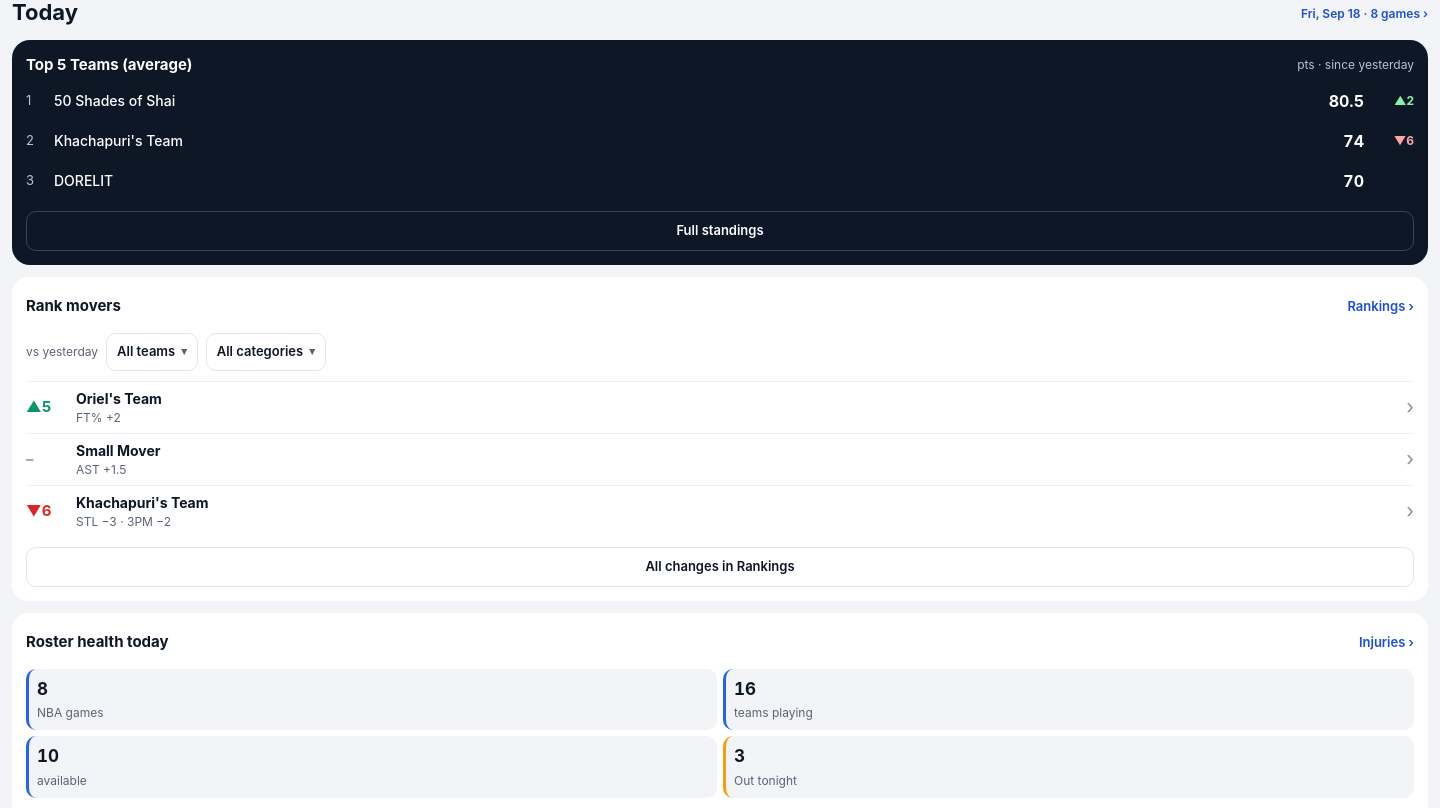
Test: Today page on a phone (redesign on) › rank movers grouped per team, filterable by team in a sheet
This screenshot has width=1440, height=808.
expect the text "STL −3 · 3PM −2" is shown: met, box [76,514,171,528]
expect the text "▲5" is shown: met, box [26,397,51,416]
Click the button with aria-label "Filter teams: All teams" at (152, 352), box [106,332,198,370]
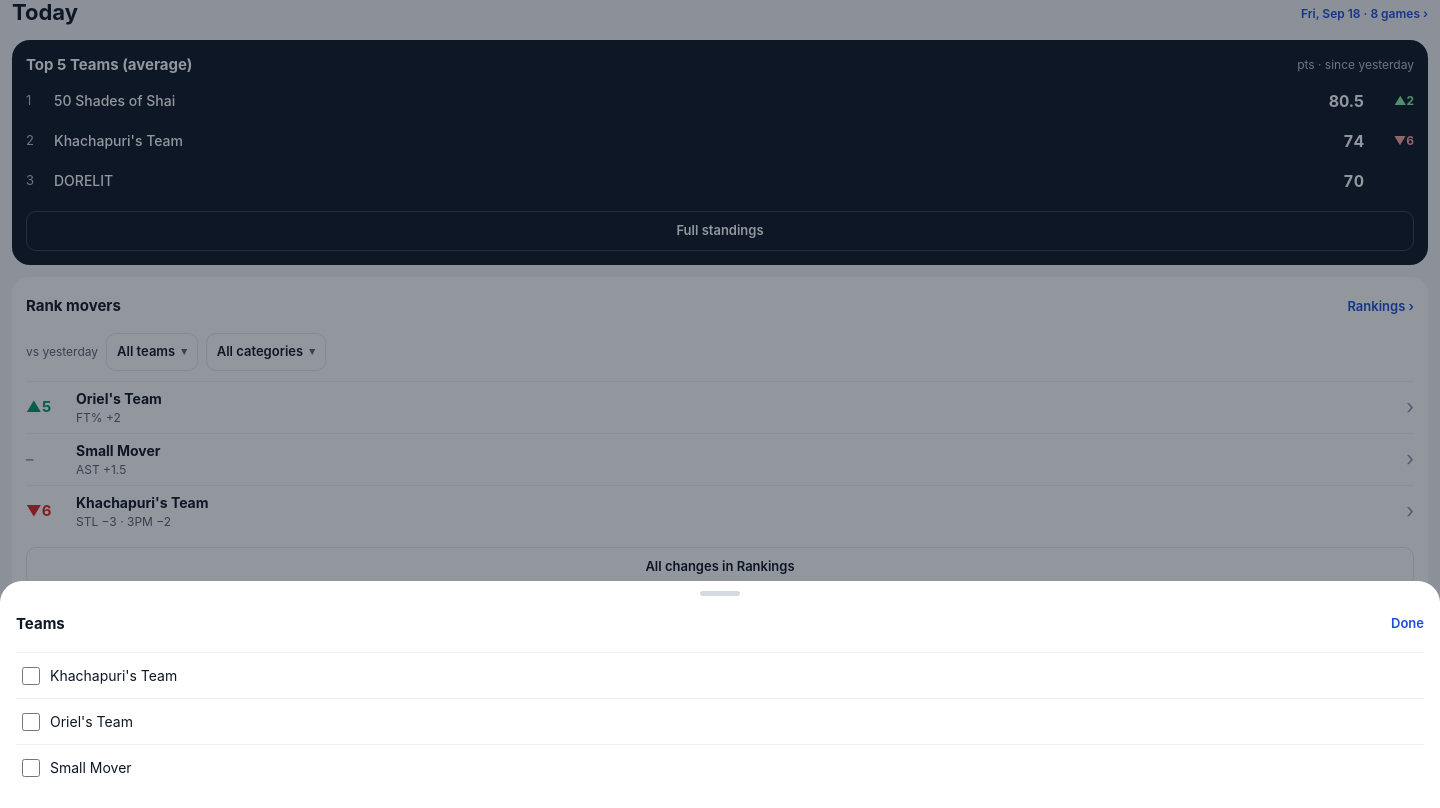
Click the checkbox labelled "Oriel's Team" at (31, 722), box [22,712,40,730]
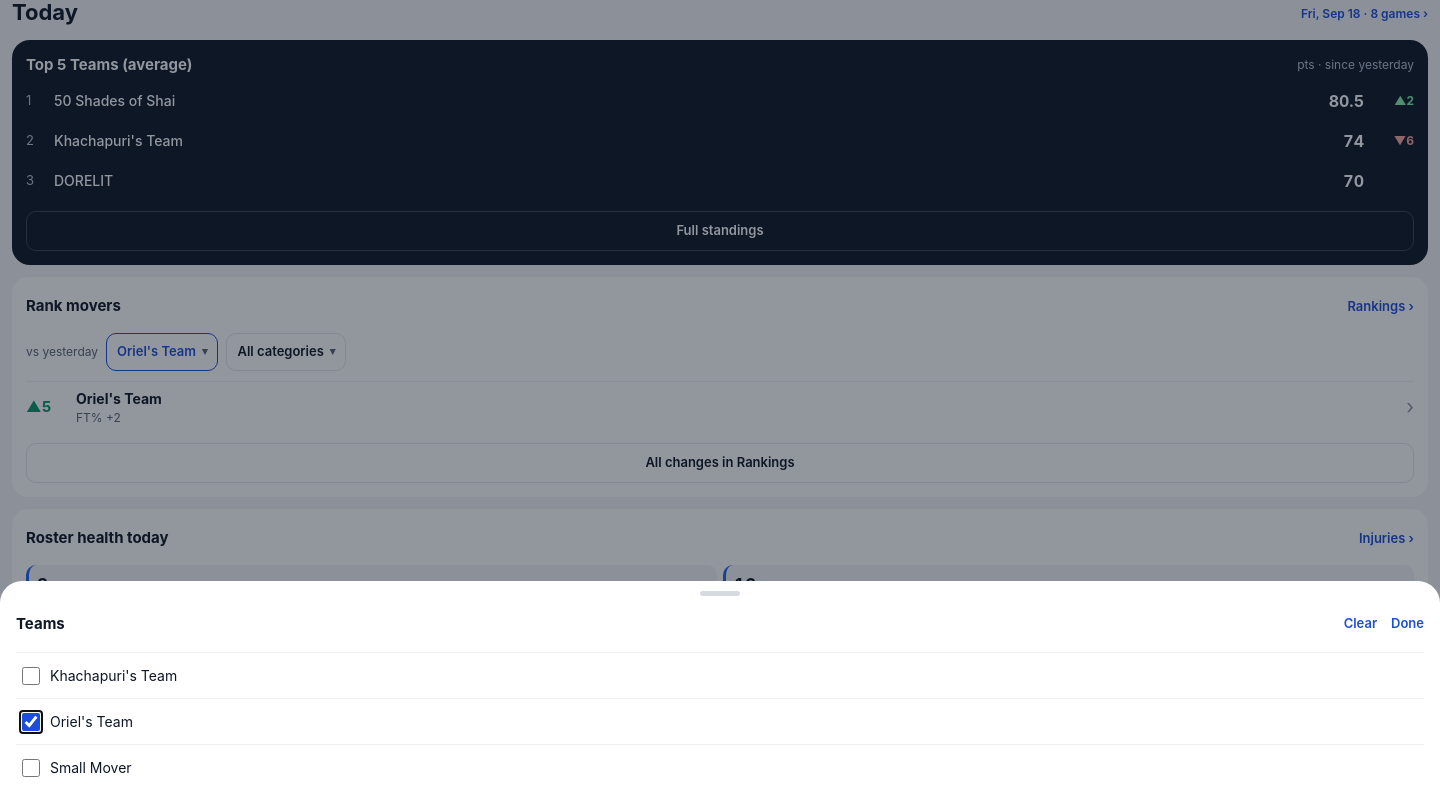
expect the text "Oriel's Team" below "vs yesterday" is shown: met, box [76,390,162,406]
expect the button with aria-label "Filter teams: Oriel's Team" is shown: met, box [106,332,218,370]
